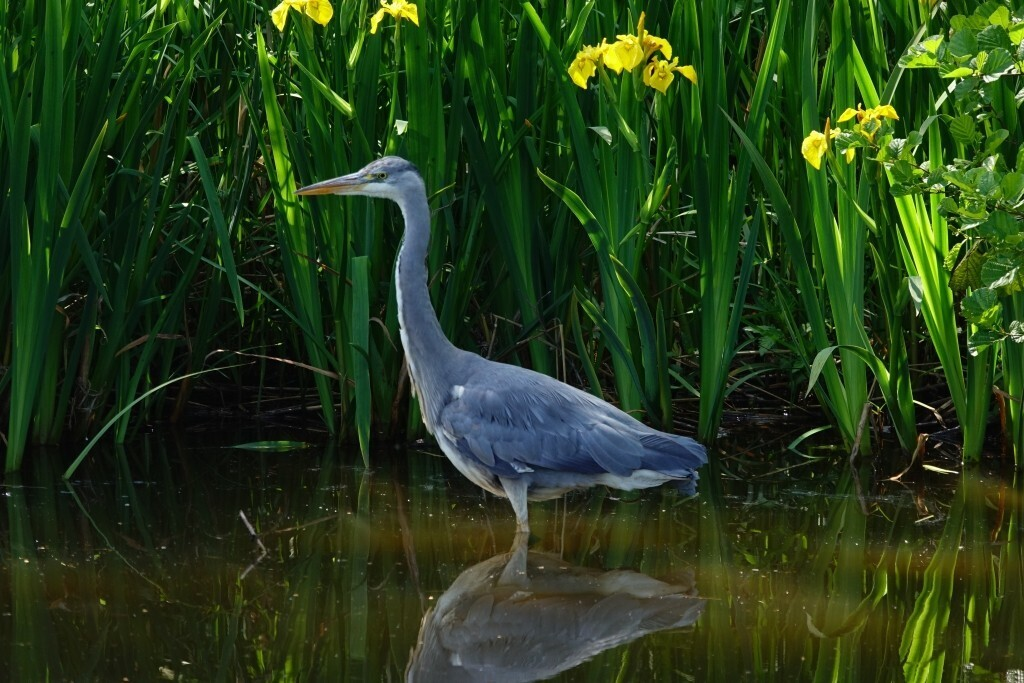heron: (292, 155, 711, 535)
